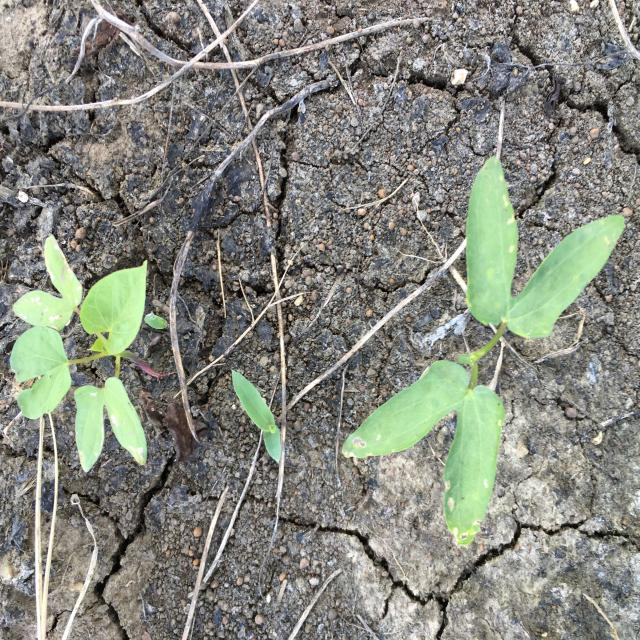MorningGlory: (342, 156, 626, 546), (9, 234, 170, 472)
